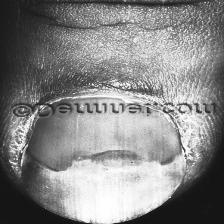Toxin: (14, 125, 190, 224)
